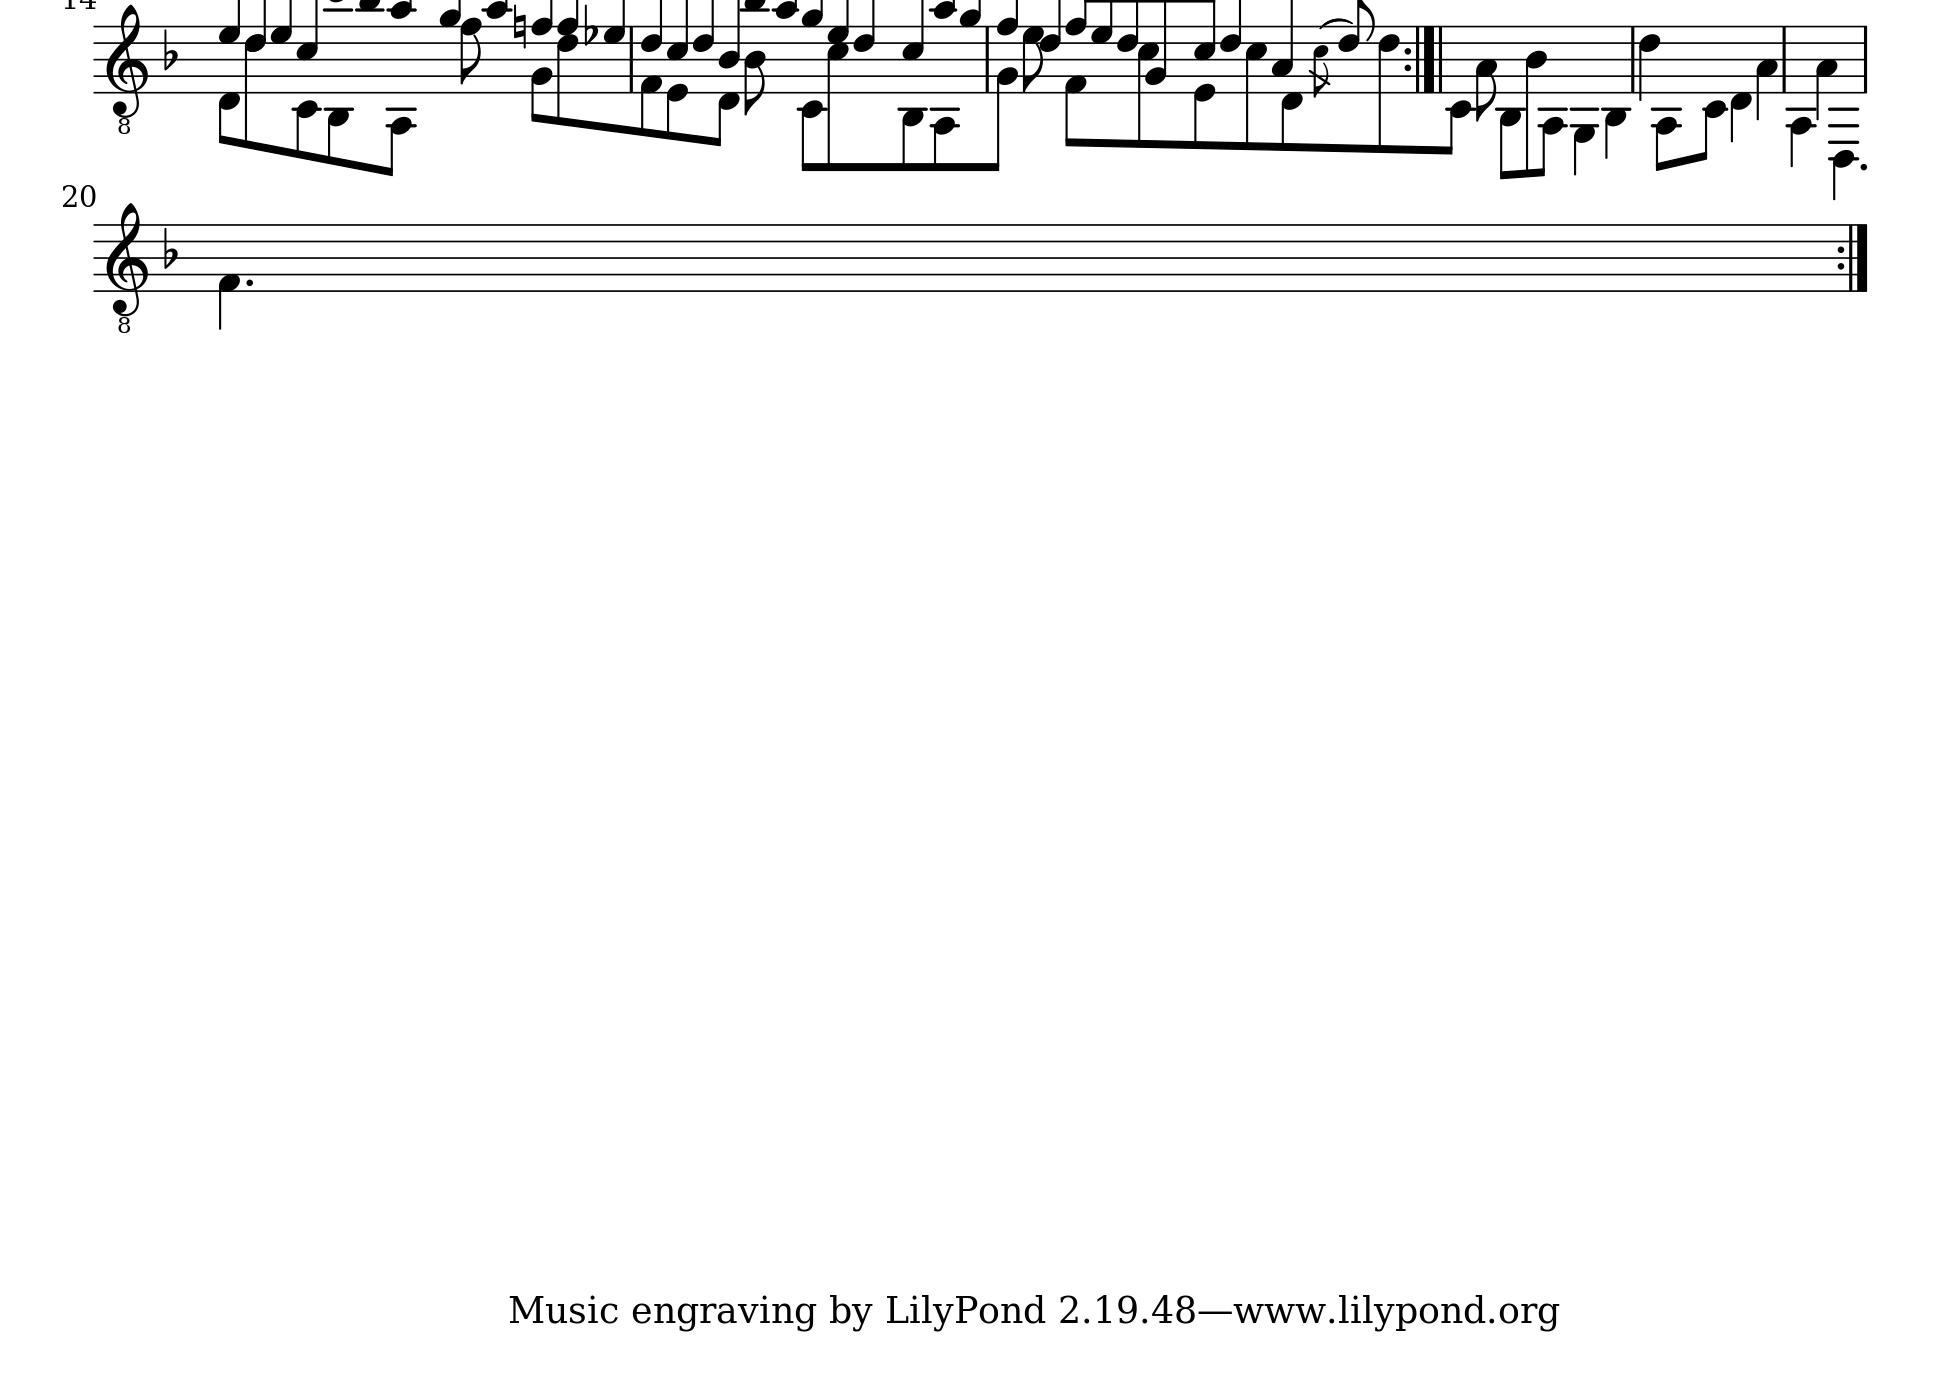0: (79, 181, 97, 208)
2: (58, 181, 78, 208)
4_-3: (1570, 27, 1599, 175), (1602, 34, 1629, 160)
4_1: (216, 223, 241, 328)
4_3: (1753, 24, 1779, 124)
4_6: (1638, 24, 1660, 100)
8_-2: (1696, 22, 1728, 163), (1441, 25, 1474, 156)
8_-3: (1497, 22, 1525, 180), (324, 28, 352, 166)
8_-4: (382, 19, 417, 178), (1534, 24, 1567, 178), (1651, 25, 1683, 172)
8_3: (1474, 22, 1498, 127)
8_5: (1242, 22, 1269, 151)
8_6: (1377, 21, 1401, 154)
8_8: (459, 16, 483, 93)
Flat: (160, 223, 180, 268), (160, 25, 178, 70), (580, 3, 598, 46)
Lower_Gclef: (103, 199, 148, 334), (103, 1, 148, 135)
Natural: (511, 1, 526, 51)
RightRepeatSign: (1401, 24, 1440, 99), (1833, 223, 1872, 292)
Single_barline: (1623, 25, 1641, 91), (1776, 25, 1794, 91), (979, 25, 996, 91), (1857, 25, 1872, 94), (624, 28, 639, 91)
Slur: (1318, 16, 1353, 28)
dot: (241, 276, 255, 289), (1857, 160, 1869, 172)
